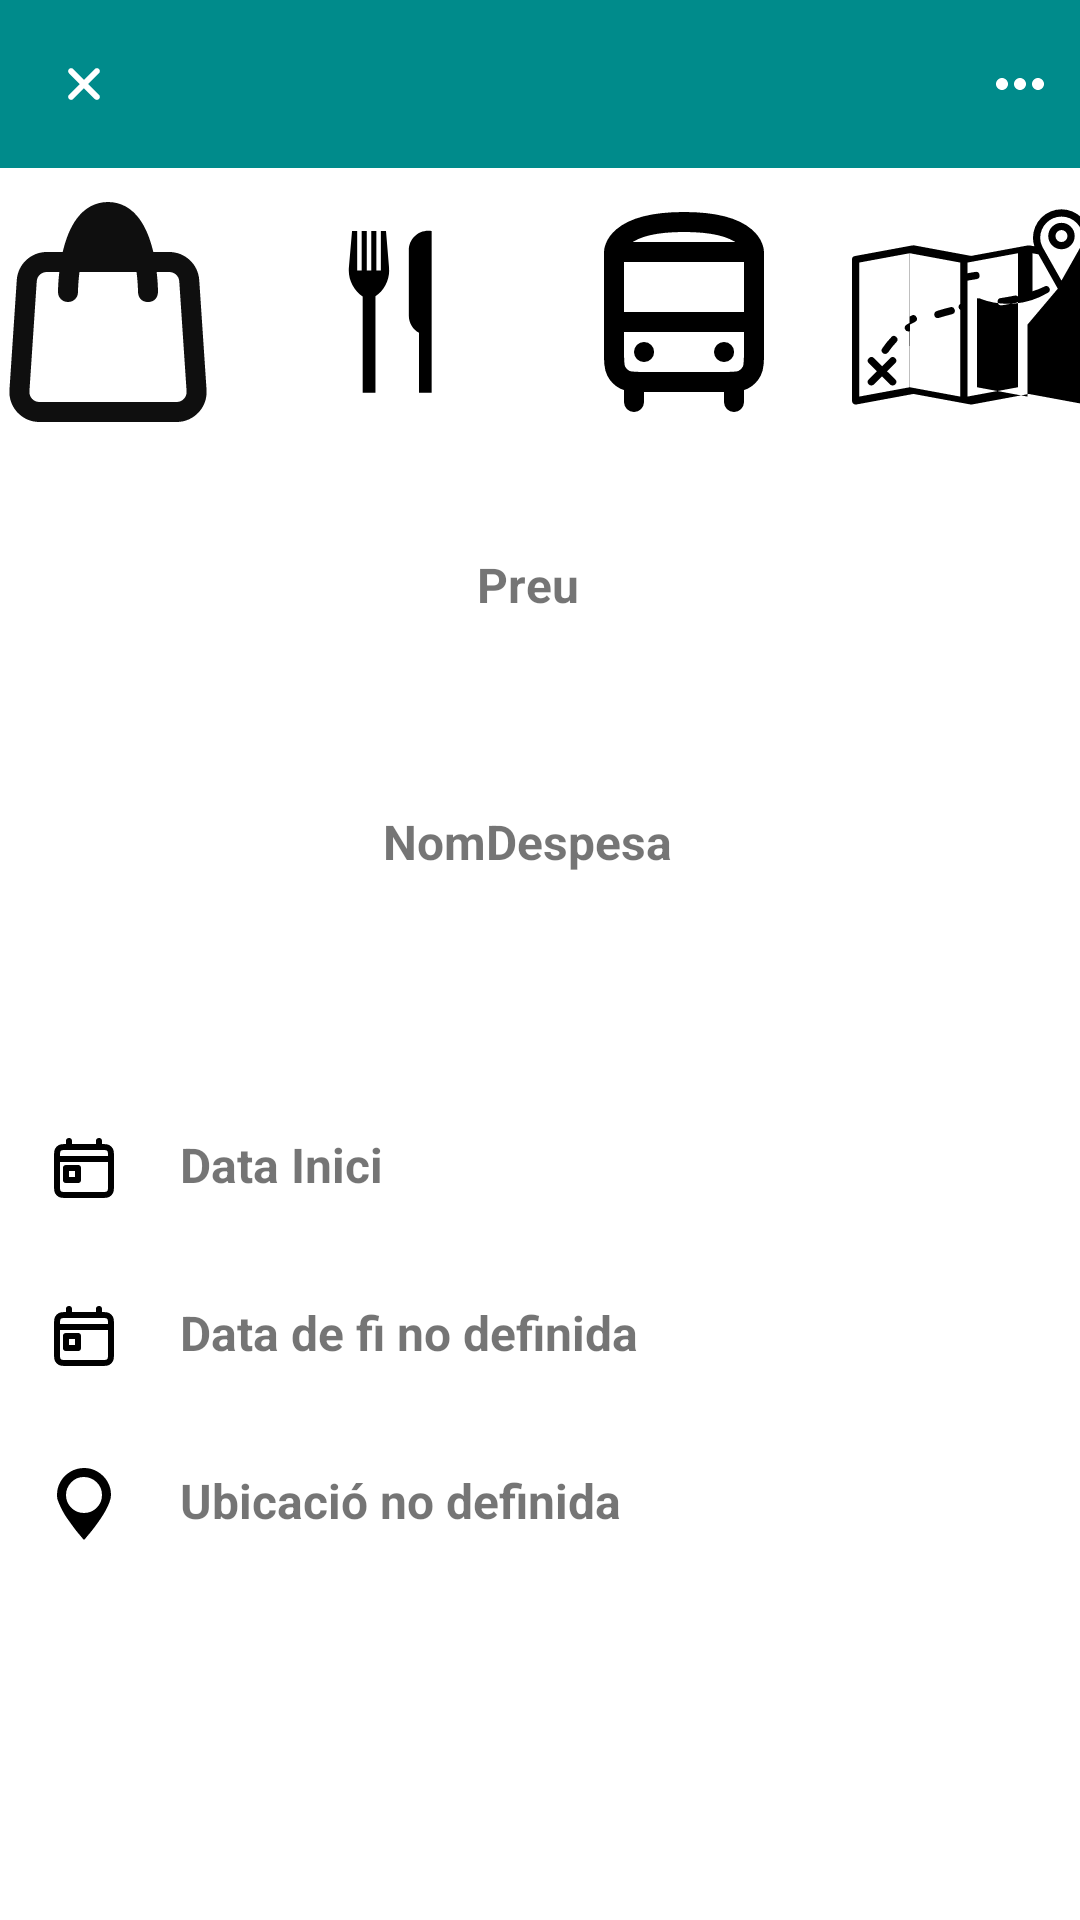

Locate icon controls on the screen. Image size 1080×1920, boxes as (x1,y1,x2,y2).
calendar: (54,1138,114,1198), (54,1306,114,1366)
cross: (68,68,100,100)
Menjar: (348,230,432,393)
options: (996,78,1044,90)
Transport: (604,212,764,412)
ubicacio: (57,1468,111,1540)
